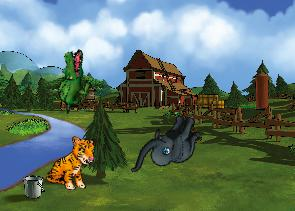crocodile: (47, 47, 98, 114)
elephant: (130, 104, 204, 187)
tiger: (45, 133, 97, 193)
